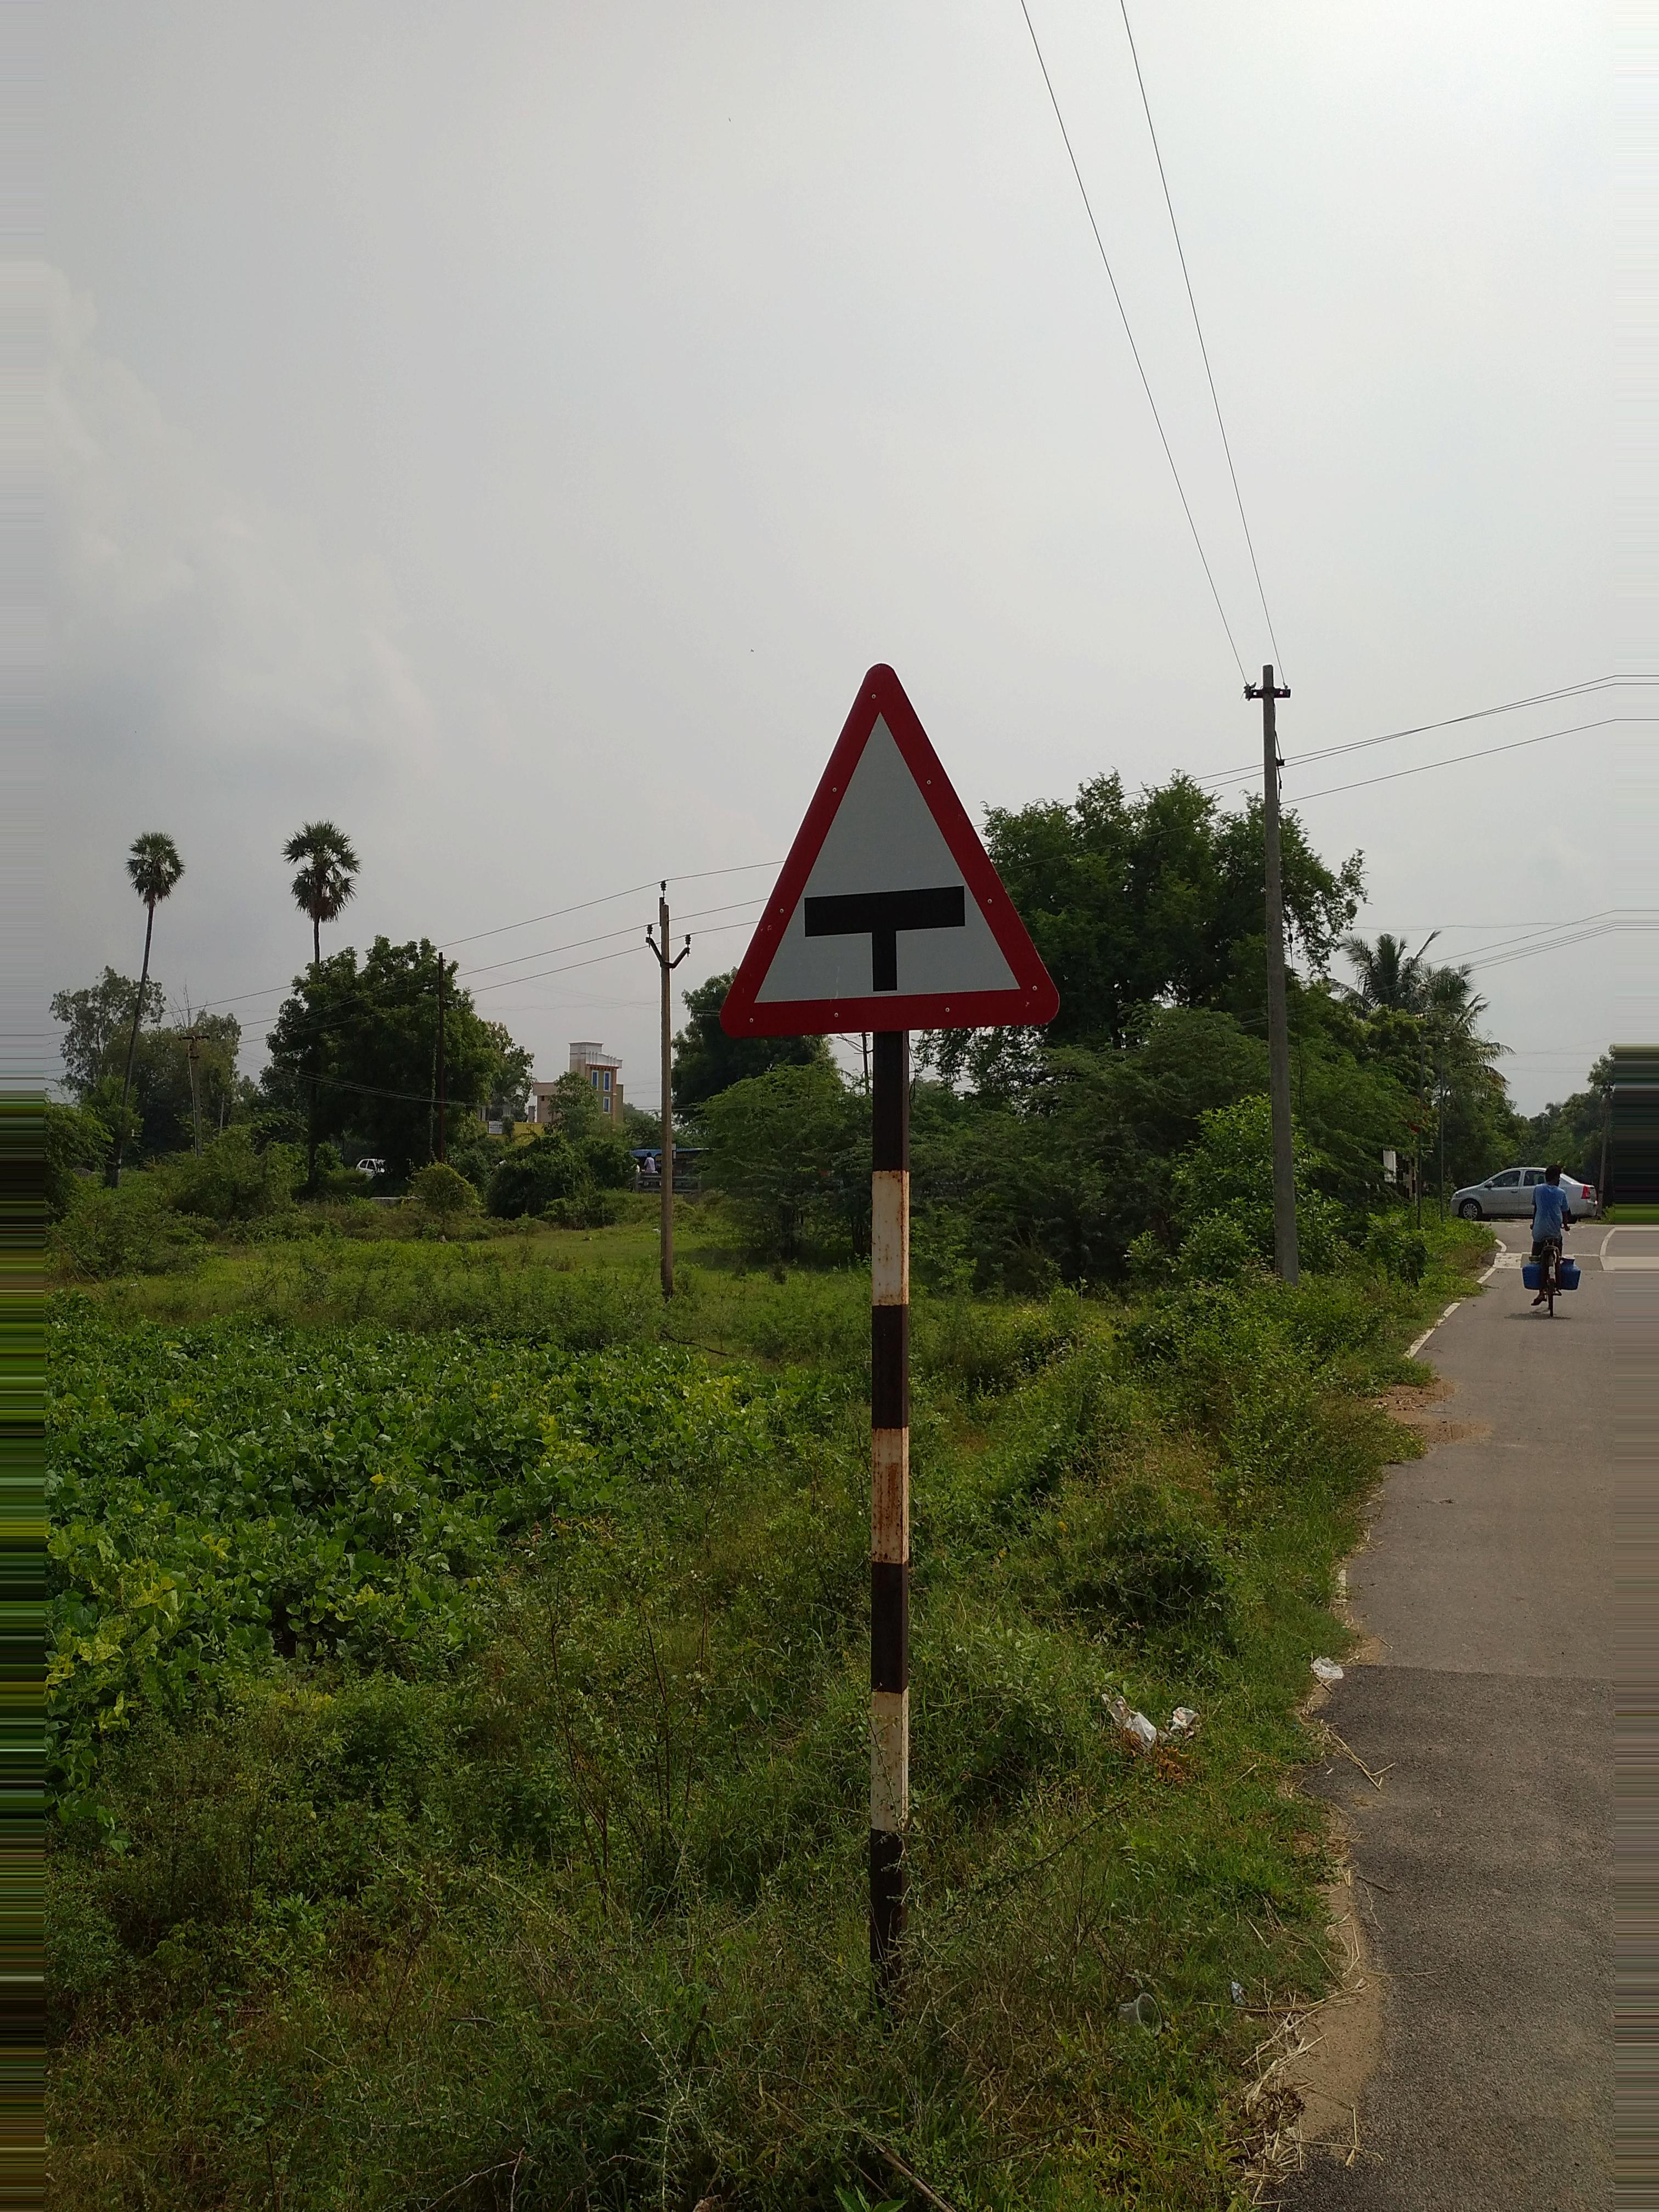Turn left or right: (697, 678, 1080, 1052)
